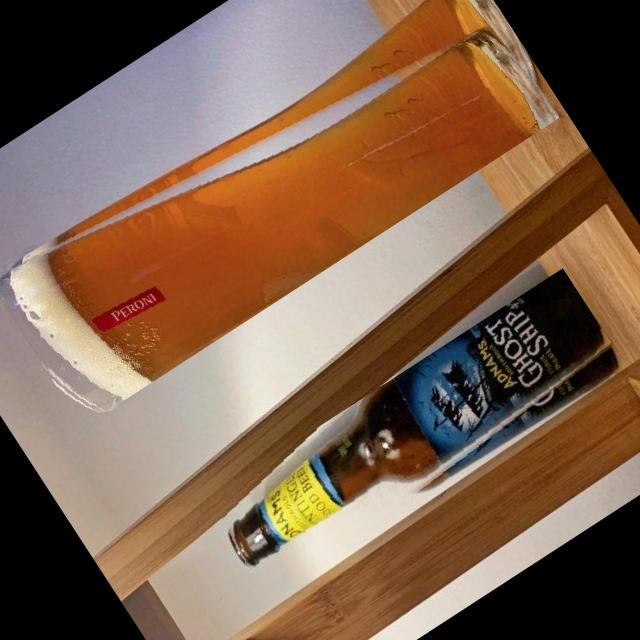Glass: (0, 0, 566, 425), (201, 266, 628, 602)
